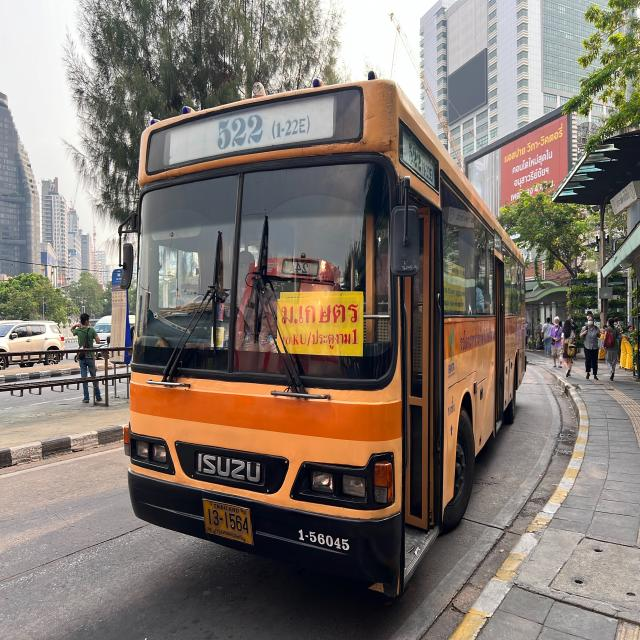BMTA-bus: (124, 79, 527, 602)
Bus-Line-Number: (212, 110, 313, 153)
Destination-Sign-Extra-Bus-Expressway: (276, 296, 362, 356)
